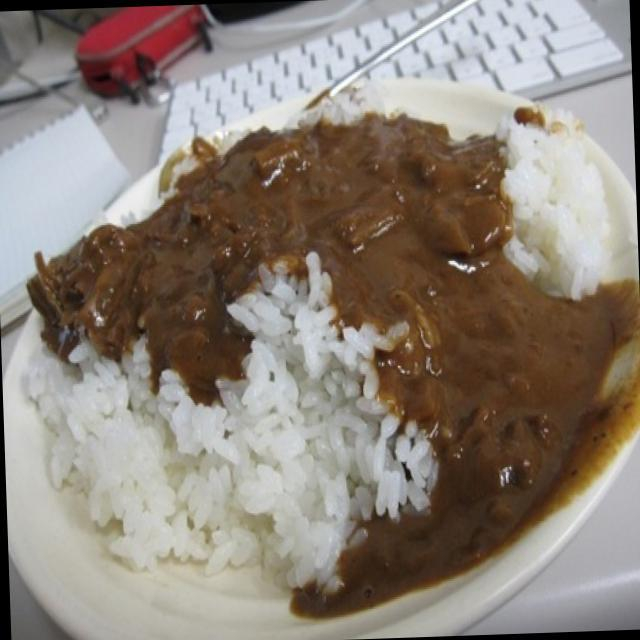Beef Curry: (88, 123, 470, 351)
Rice: (52, 352, 376, 572)
